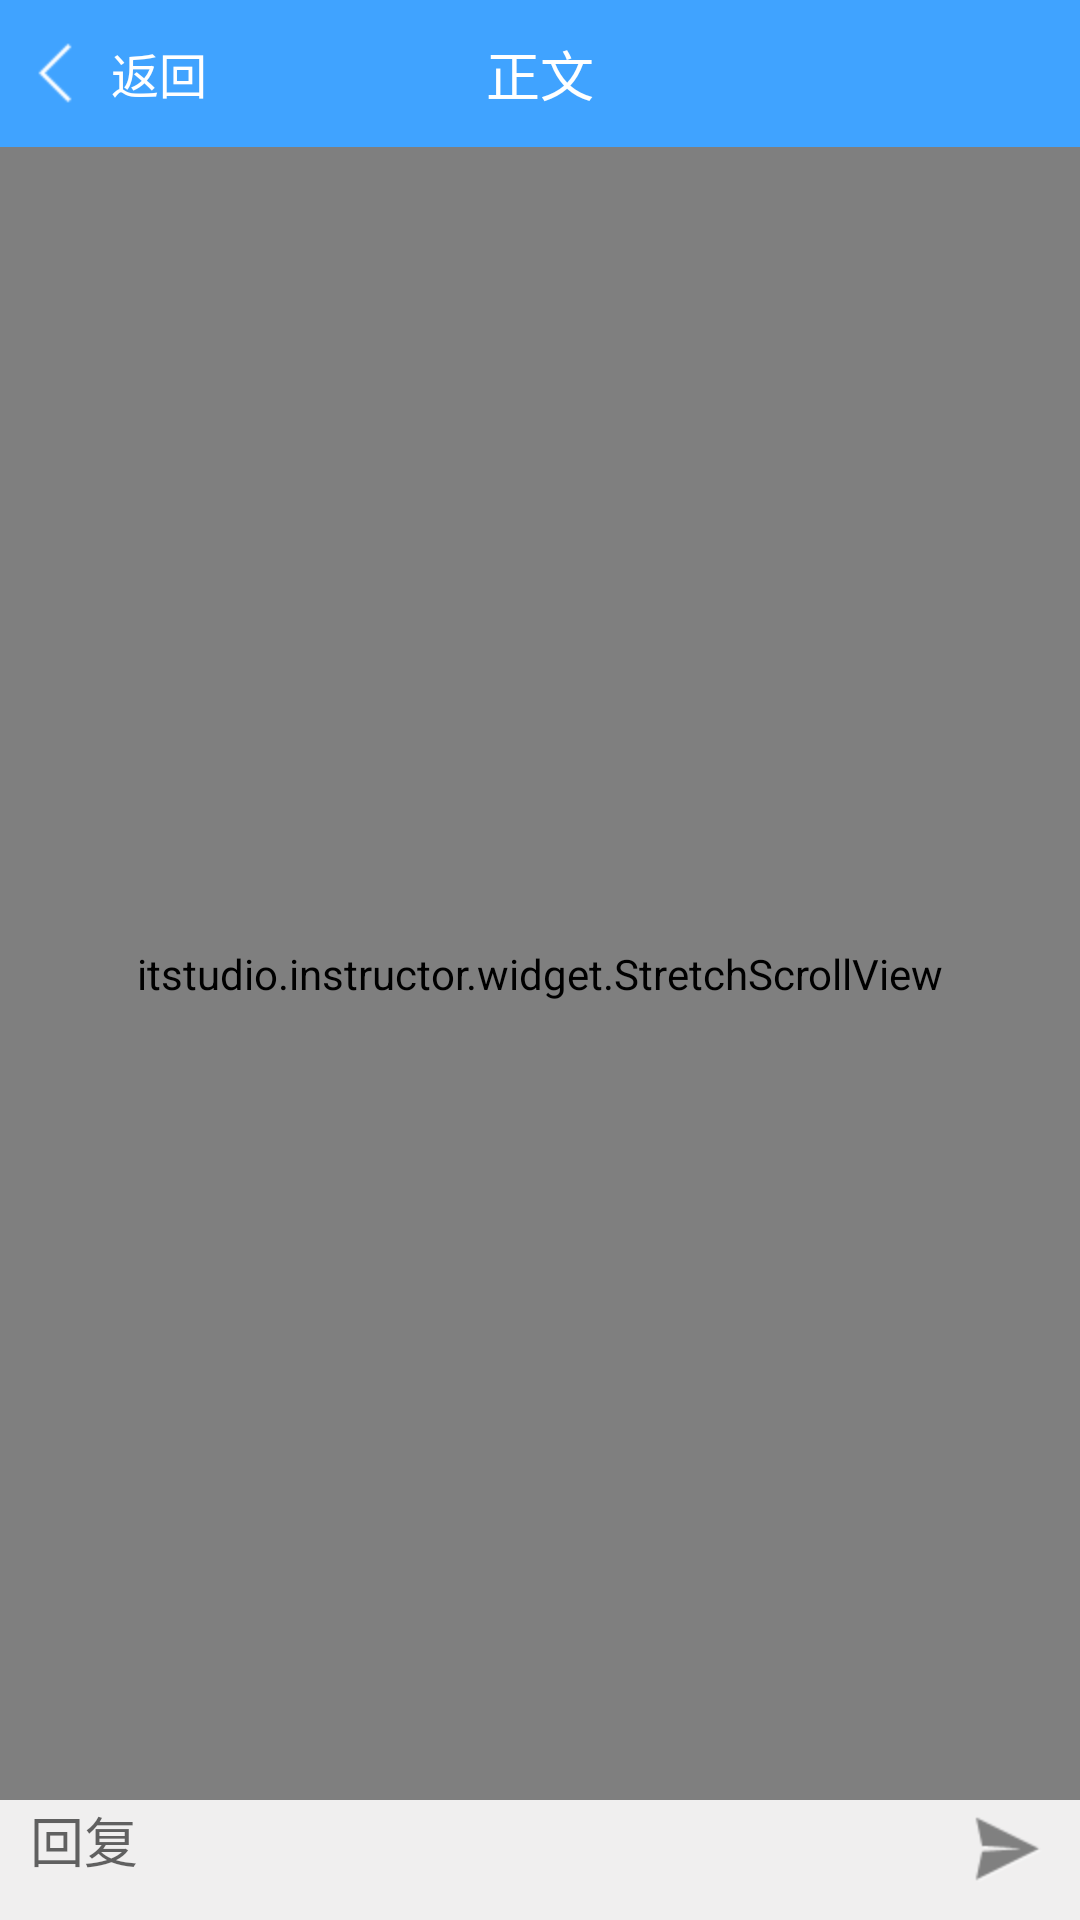

Named icons in this screenshot (1080*1920) and their bounding boxes, box=[x1, y1, x2, y2]:
arrow back: box=[38, 43, 72, 103]
base send: box=[976, 1818, 1039, 1880]
